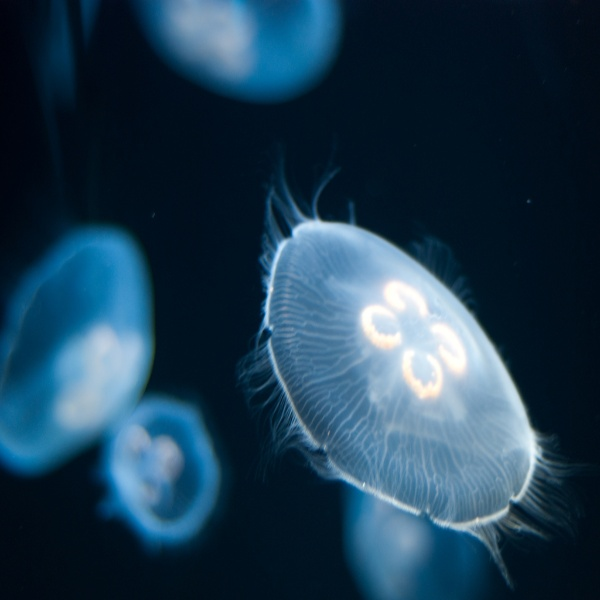Jellyfish: (237, 167, 567, 558), (0, 226, 156, 475), (144, 0, 346, 106), (100, 393, 221, 547)
